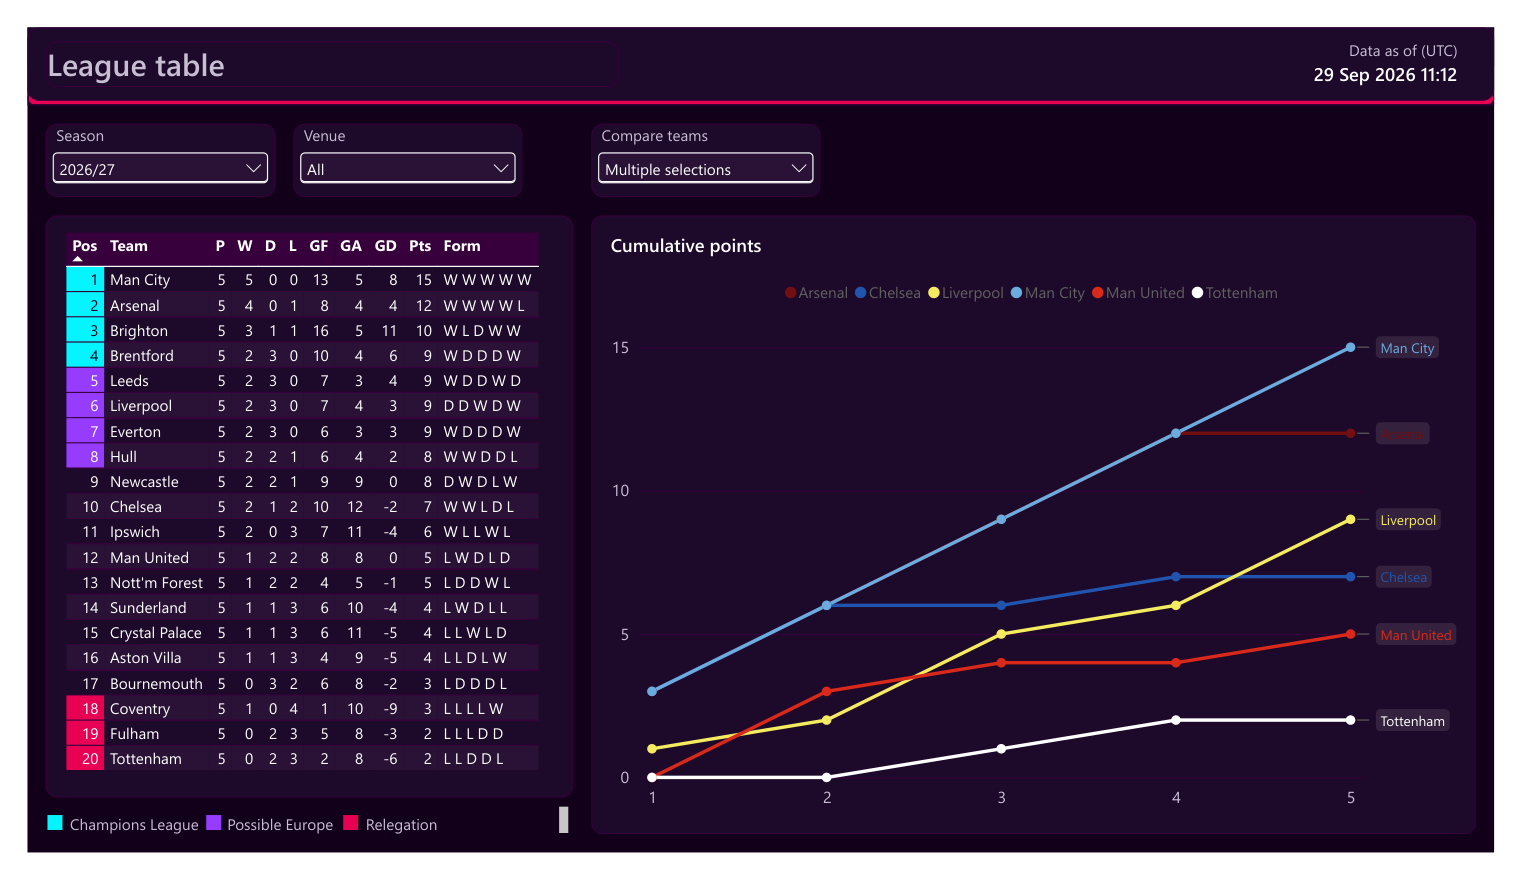

This screenshot's page, from the dashboard's own definition file:
{"tool":"powerbi","page":{"name":"League table","canvas":[1280,720],"ordinal":0},"visuals":[{"type":"group","id":"g1","title":"Top bar","box":[0,0,1280,68],"z":0},{"type":"shape","title":"Accent line","box":[0,56,1280,12],"z":0,"group":"g1"},{"type":"shape","title":"Bar","box":[0,0,1280,64],"z":1000,"group":"g1"},{"type":"slicer","fields":{"Values":["dim_season.season"]},"box":[16,84,200,64],"z":1000},{"type":"textbox","title":"Page title","box":[16,12,500,40],"z":2000,"group":"g1"},{"type":"slicer","fields":{"Values":["fact_team_match.venue"]},"box":[232,84,200,64],"z":2000},{"type":"cardVisual","title":"Last refreshed","fields":{"Data":["_Measures.Last Refreshed"]},"box":[1004,4,260,56],"z":3000,"group":"g1"},{"type":"tableEx","fields":{"Values":["_Measures.Position","dim_team.team","_Measures.Matches","_Measures.Wins","_Measures.Draws","_Measures.Losses","_Measures.Goals For","_Measures.Goals Against","_Measures.Goal Difference","_Measures.Points","_Measures.Form (Last 5)"]},"box":[16,164,460,508],"z":3000},{"type":"lineChart","title":"Cumulative points","fields":{"Category":["fact_team_match.game_no"],"Series":["dim_team.team"],"Y":["_Measures.Cumulative Points"]},"box":[492,164,772,540],"z":4000},{"type":"slicer","fields":{"Values":["dim_team.team"]},"box":[492,84,200,64],"z":5000},{"type":"textbox","box":[16,680,456,24],"z":5001}]}

Visuals, with their boxes in screenshot pixels (x1, y1, x2, y2), scaled from the page's 1280x720 canvas onto the 1522x880 screenshot:
"Top bar" group: pyautogui.locateOnScreen(0, 0, 1521, 83)
"Accent line" shape: pyautogui.locateOnScreen(0, 68, 1521, 83)
"Bar" shape: pyautogui.locateOnScreen(0, 0, 1521, 78)
slicer - dim_season.season: pyautogui.locateOnScreen(19, 103, 257, 181)
"Page title" textbox: pyautogui.locateOnScreen(19, 15, 614, 64)
slicer - fact_team_match.venue: pyautogui.locateOnScreen(276, 103, 514, 181)
"Last refreshed" cardVisual: pyautogui.locateOnScreen(1194, 5, 1503, 73)
tableEx - _Measures.Position x dim_team.team: pyautogui.locateOnScreen(19, 200, 566, 821)
"Cumulative points" lineChart: pyautogui.locateOnScreen(585, 200, 1503, 860)
slicer - dim_team.team: pyautogui.locateOnScreen(585, 103, 823, 181)
textbox: pyautogui.locateOnScreen(19, 831, 561, 860)
